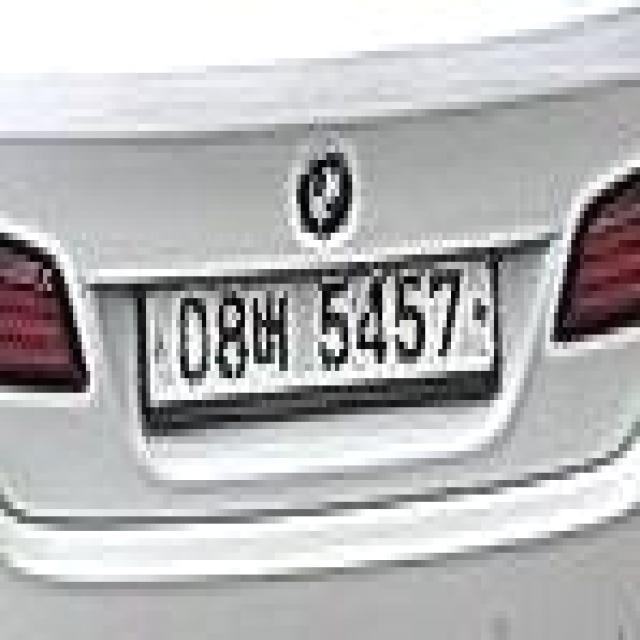illegal_plate: (135, 249, 505, 424)
